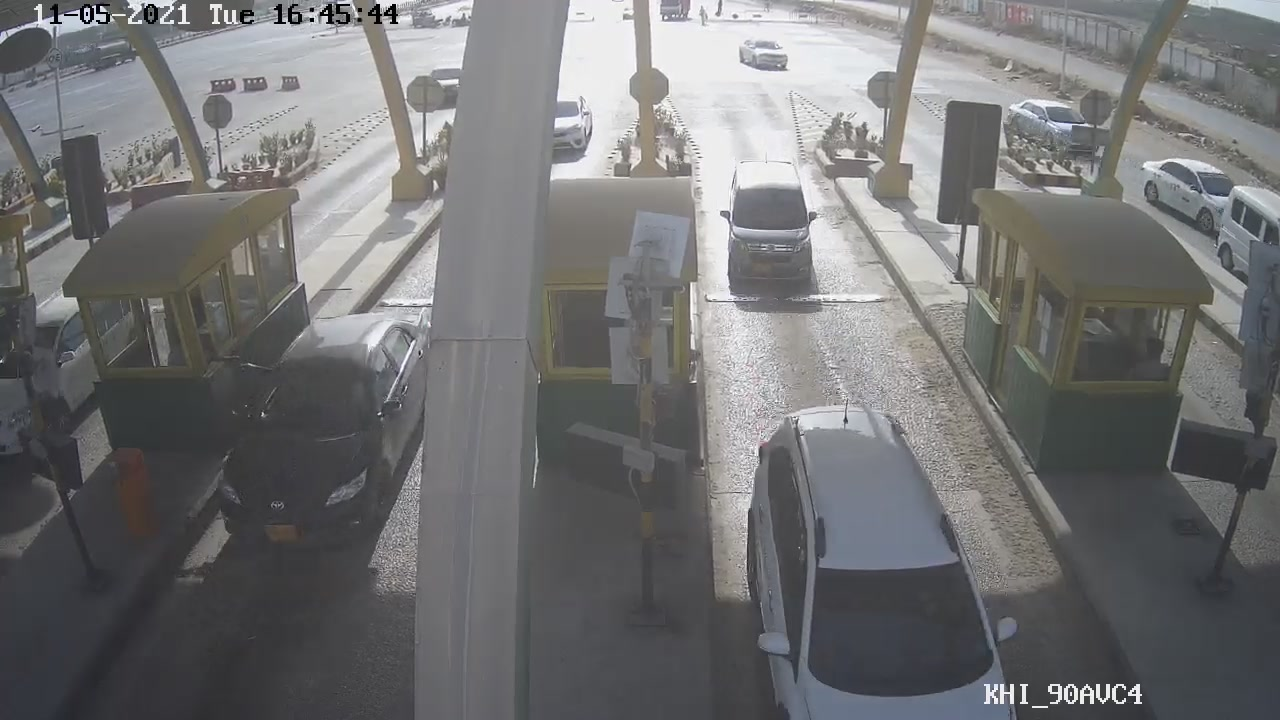F1: (713, 154, 834, 302)
